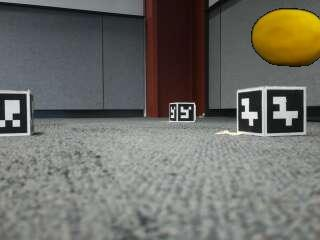lemon: (252, 10, 319, 67)
